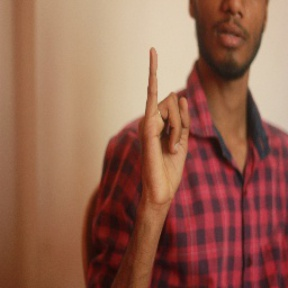I: (136, 44, 194, 198)
